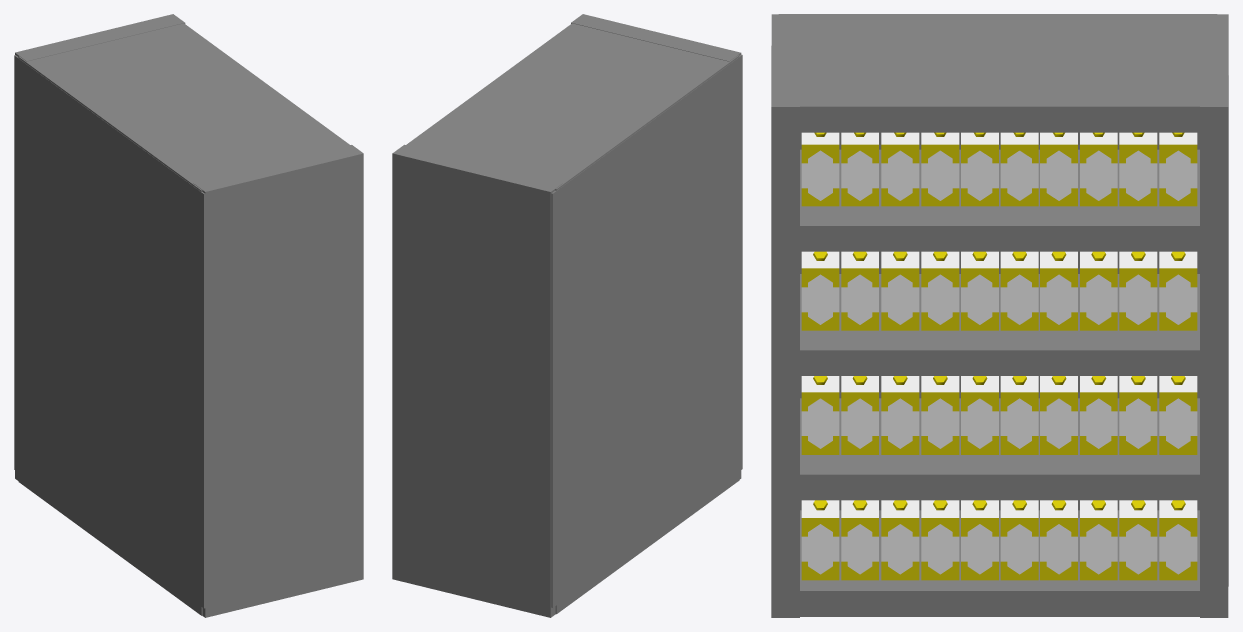
File: yellow_milk_shelf.gltf
3 renders of one model, left to right at view 1: azimuth 30°, elevation 25°; view 2: azimuth 150°, elevation 25°; view 3: azimuth 270°, elevation 25°, orthographic. The views are drawn at different scales.
Visible parts, largest first — view 1: Cube; view 2: Cube; view 3: Cube, carton.031, carton.027, carton.029, carton.007, carton.030, carton.026, carton.028, carton.003.
Part boxes in pixels (bbox=[...]): Cube: bbox=[14, 14, 363, 617]; Cube: bbox=[392, 14, 742, 617]; Cube: bbox=[771, 14, 1228, 617]; carton.031: bbox=[841, 500, 1197, 580]; carton.027: bbox=[841, 251, 1197, 330]; carton.029: bbox=[841, 376, 1197, 454]; carton.007: bbox=[841, 132, 1197, 206]; carton.030: bbox=[801, 500, 839, 580]; carton.026: bbox=[801, 251, 839, 330]; carton.028: bbox=[801, 376, 839, 454]; carton.003: bbox=[801, 132, 839, 206].
Bounding box in the file's own units: 4.03 × 10.28 × 8.34.
